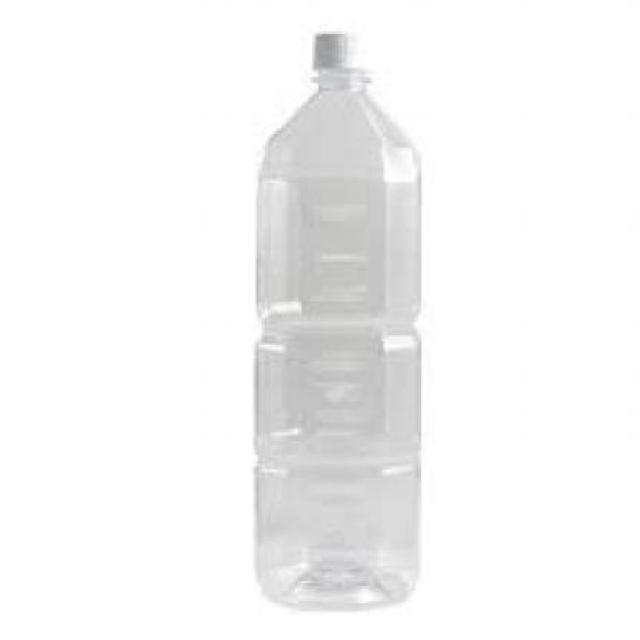PLASTIC: (256, 70, 420, 607), (312, 35, 377, 80)
